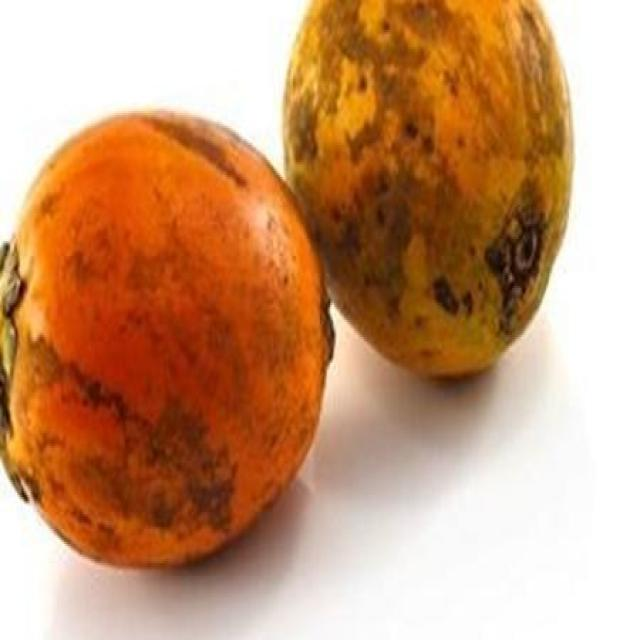good: (0, 111, 336, 572), (283, 0, 576, 386)
